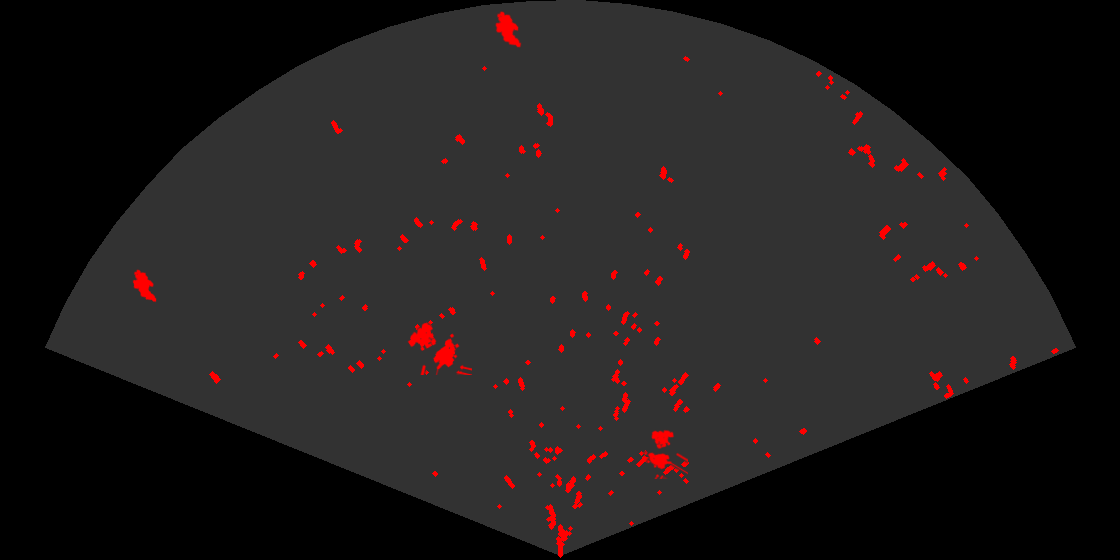AUV: (494, 10, 523, 49), (131, 268, 158, 304)
cage: (406, 321, 472, 375), (642, 428, 688, 479)
